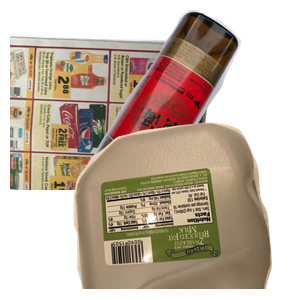glass: (85, 10, 300, 190)
paper: (10, 31, 214, 211)
plastic: (71, 120, 300, 300)
trash: (83, 160, 233, 300)
